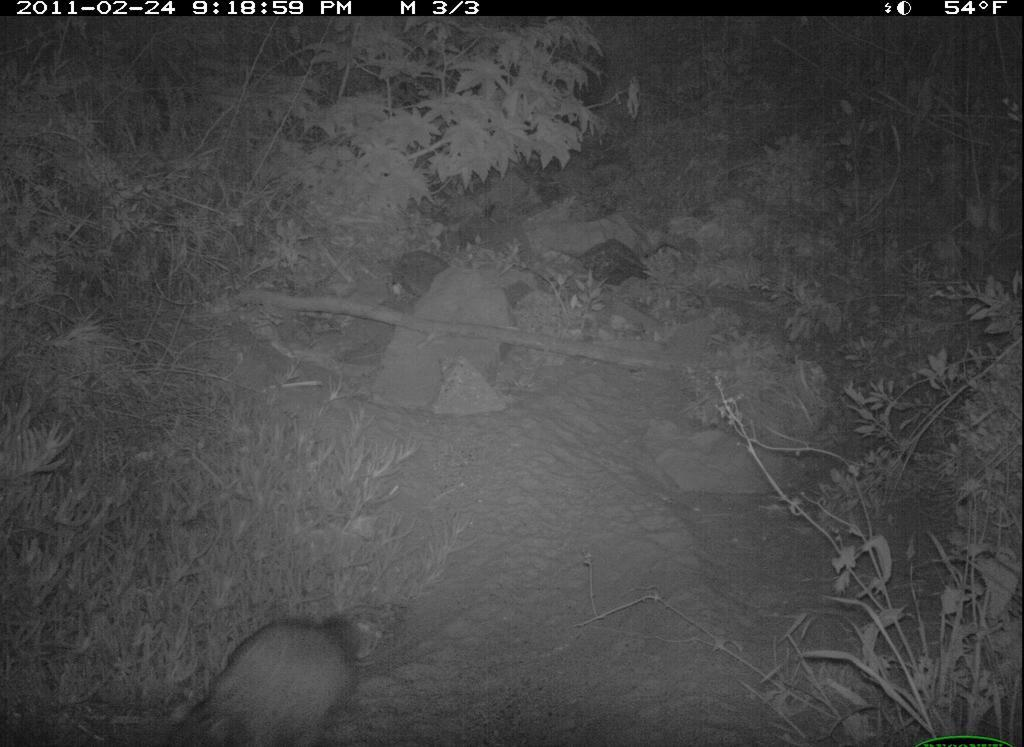raccoon: (162, 603, 378, 744)
